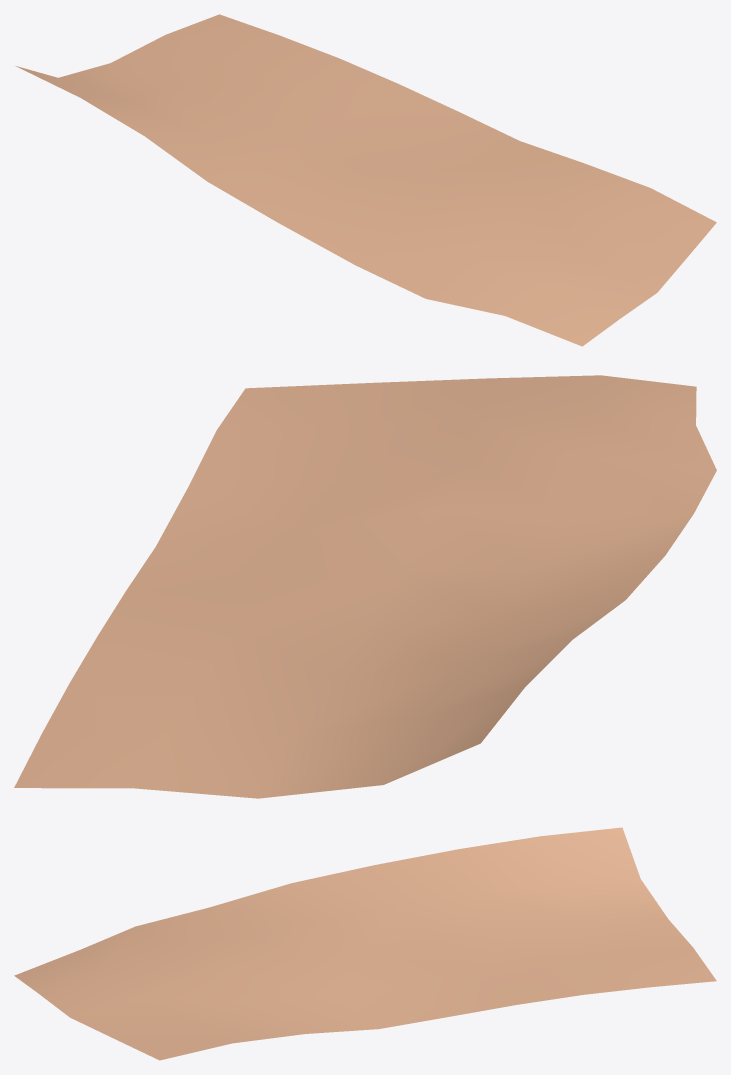
File: sole-l.glb
3 views of the same model, one above another, from view 1: azimuth 30°, elevation 25°; view 2: azimuth 150°, elevation 25°; view 3: azimuth 270°, elevation 25° (orthographic). The views are drawn at different scales.
Visible parts, largest first — view 1: Sole.l; view 2: Sole.l; view 3: Sole.l.
Part boxes in pixels (x1,y1,x2,y2): Sole.l: (16, 14, 716, 346); Sole.l: (14, 375, 716, 798); Sole.l: (14, 827, 716, 1060).
Bounding box in the file's own units: 0.0616 × 0.00972 × 0.1022.
